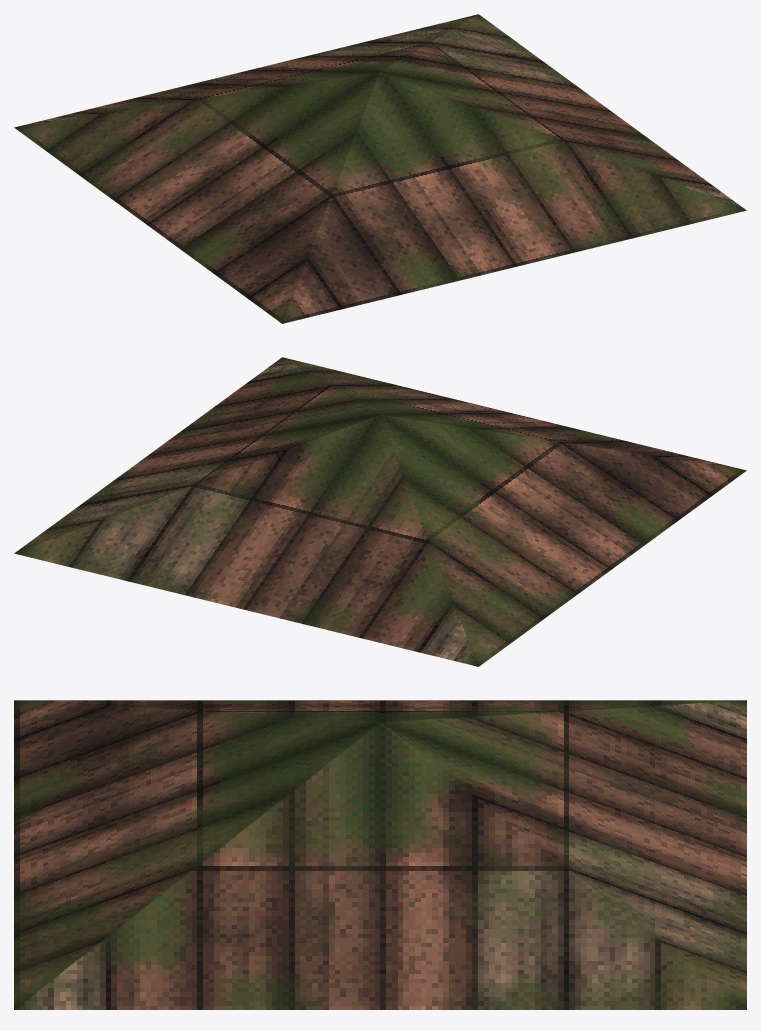
File: roof_peak.gltf
3 renders of one model, top to bottom at view 1: azimuth 30°, elevation 25°; view 2: azimuth 150°, elevation 25°; view 3: azimuth 270°, elevation 25°, orthographic. The views are drawn at different scales.
Visible parts, largest first — view 1: roof_peak-col; view 2: roof_peak-col; view 3: roof_peak-col.
Boxes of the visible parts, x1=… form: roof_peak-col: x1=14, y1=14, x2=746, y2=323; roof_peak-col: x1=14, y1=357, x2=746, y2=666; roof_peak-col: x1=14, y1=700, x2=746, y2=1009.
Size of the model in its own units: 2 by 0.42 by 2.
2 materials, 2 textured.
